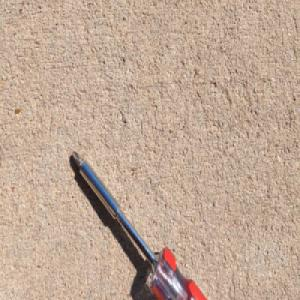Screwdriver: (68, 146, 215, 300)
